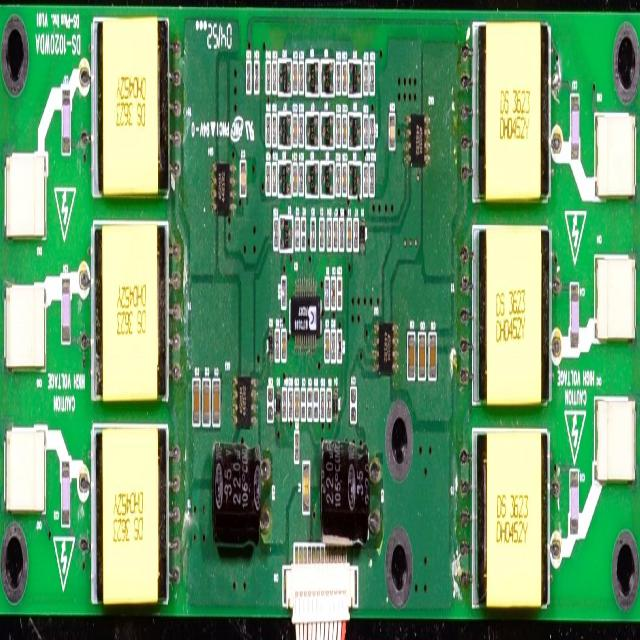Capacitor Jumper: (58, 76, 75, 170), (59, 269, 75, 354), (569, 88, 585, 168), (567, 276, 582, 356), (60, 458, 76, 532), (568, 463, 584, 536), (200, 366, 212, 432), (427, 326, 439, 388), (210, 374, 223, 430), (405, 324, 417, 384), (190, 372, 201, 434), (417, 323, 428, 380), (237, 155, 249, 205), (348, 381, 359, 431), (386, 106, 396, 152), (292, 156, 300, 201), (294, 212, 302, 255), (291, 105, 298, 150), (300, 382, 307, 426), (336, 276, 344, 314), (330, 269, 337, 310), (306, 385, 313, 425), (294, 384, 301, 422), (347, 215, 354, 252), (333, 218, 340, 255), (342, 161, 349, 196), (325, 328, 331, 368), (292, 57, 298, 96), (342, 114, 348, 151), (342, 60, 348, 96)
Connector: (278, 527, 370, 640), (1, 138, 54, 260), (2, 282, 54, 392), (587, 384, 640, 490), (2, 416, 49, 532), (592, 105, 640, 209), (593, 248, 639, 354)
IC: (288, 279, 323, 351), (207, 153, 237, 230), (403, 107, 433, 178), (369, 318, 401, 382), (230, 364, 258, 432)
Resistor Jumper: (278, 270, 288, 314), (318, 380, 326, 424), (252, 54, 260, 98), (335, 55, 343, 99), (309, 210, 317, 253), (288, 380, 296, 423), (274, 323, 282, 364), (298, 158, 306, 198), (369, 161, 377, 201), (323, 272, 331, 312), (280, 323, 288, 363), (281, 384, 289, 424), (326, 214, 334, 253), (369, 56, 377, 95), (298, 110, 306, 148), (334, 161, 342, 199), (319, 215, 326, 258), (298, 58, 305, 101), (326, 386, 334, 423), (272, 211, 279, 253), (301, 211, 308, 253), (264, 56, 271, 98), (369, 113, 377, 149), (271, 55, 278, 96), (330, 324, 337, 364), (245, 56, 252, 95), (362, 160, 369, 198), (272, 112, 278, 156), (335, 110, 342, 147), (339, 216, 346, 252), (336, 325, 342, 366), (266, 158, 272, 198), (272, 160, 278, 200), (314, 387, 320, 426), (265, 111, 271, 147), (362, 112, 368, 148), (363, 58, 368, 95)
Transistor: (304, 104, 320, 153), (304, 54, 320, 102), (304, 156, 319, 198), (321, 56, 335, 99), (321, 110, 334, 150), (320, 160, 334, 196)
